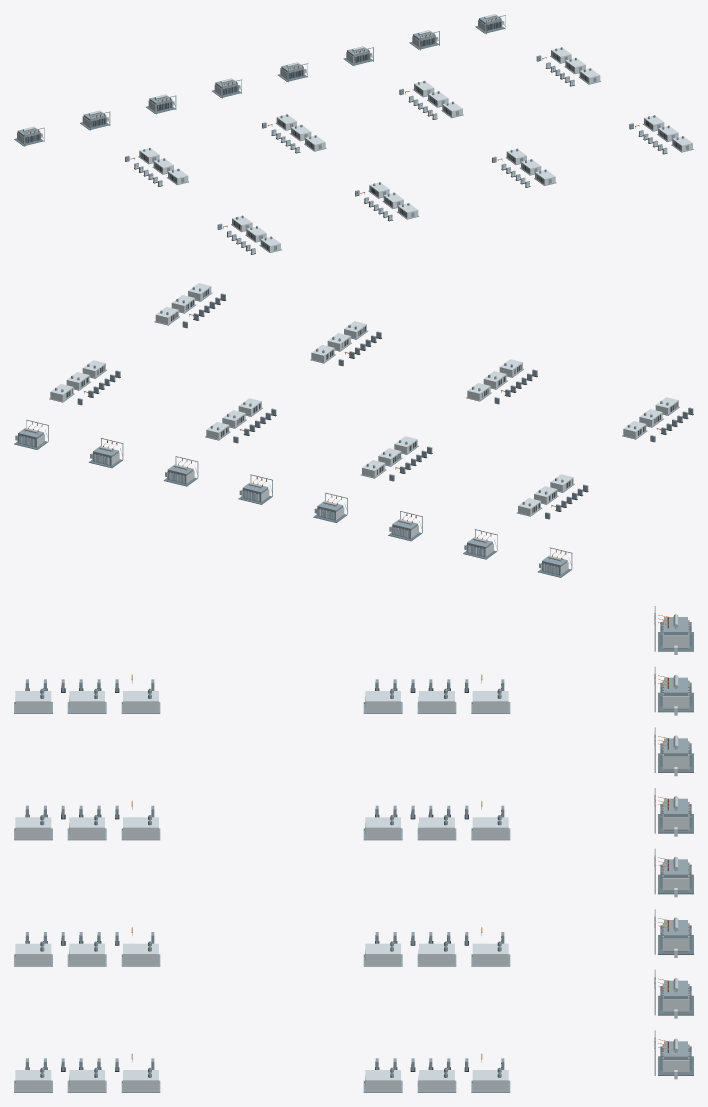
File: power.glb
3 views of the same model, one above another, from view 1: azimuth 30°, elevation 25°; view 2: azimuth 150°, elevation 25°; view 3: azimuth 270°, elevation 25° (orthographic). The views are drawn at different scales.
Parts seen in each view (by area): view 1: power_white, power_metal, power_dark, power_floor; view 2: power_white, power_metal, power_dark, power_floor; view 3: power_white, power_metal, power_floor.
Boxes of the visible parts, bbox=[...] form: power_white: bbox=[17, 17, 692, 253]; power_metal: bbox=[17, 14, 693, 254]; power_dark: bbox=[126, 53, 680, 254]; power_floor: bbox=[14, 26, 504, 146]; power_white: bbox=[15, 283, 678, 574]; power_metal: bbox=[18, 286, 693, 575]; power_dark: bbox=[66, 289, 693, 512]; power_floor: bbox=[14, 441, 571, 577]; power_white: bbox=[15, 620, 689, 1091]; power_metal: bbox=[14, 606, 691, 1092]; power_floor: bbox=[658, 632, 693, 1075].
Size of the model in its own units: 364 by 10.3 by 228.
